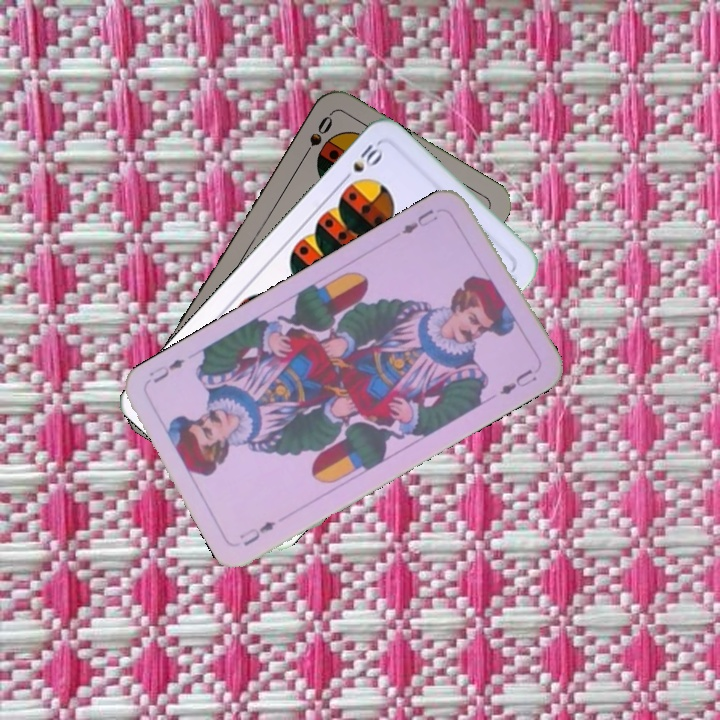EU: (397, 204, 440, 237), (235, 517, 278, 549)
S10: (337, 140, 386, 186)
SO: (297, 111, 336, 164)
